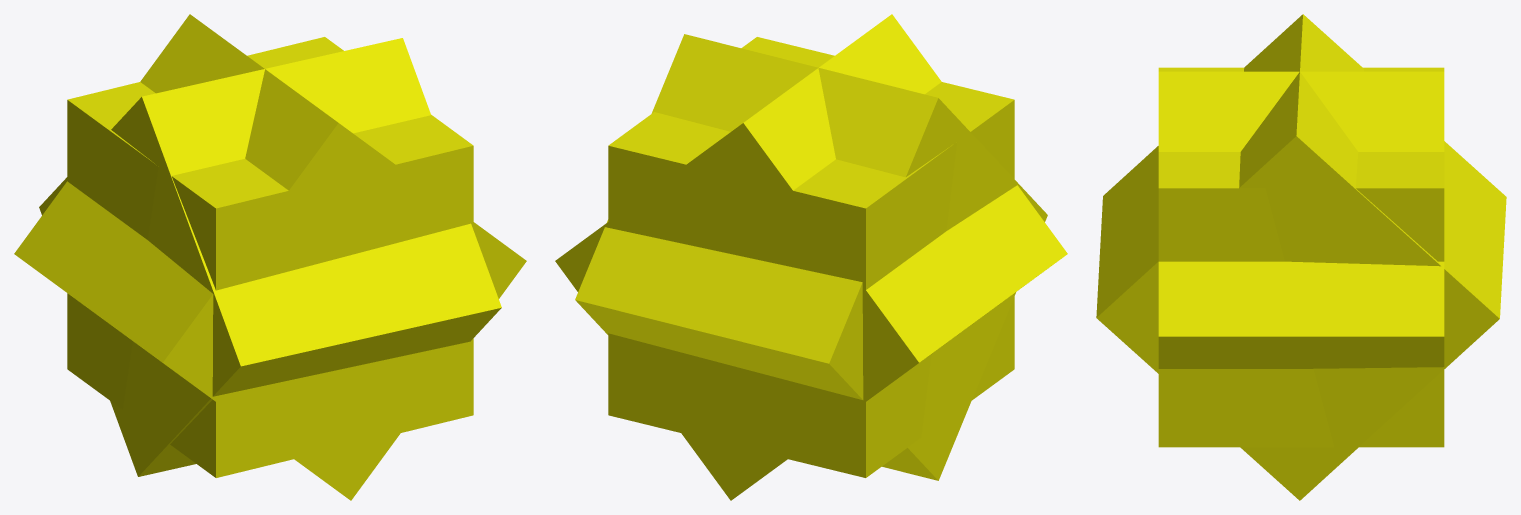
File: star.fbx
The picture shows the model from 3 angles, left to right: view 1: azimuth 30°, elevation 25°; view 2: azimuth 150°, elevation 25°; view 3: azimuth 270°, elevation 25°; orthographic projection. The views are drawn at different scales.
Parts seen in each view (by area): view 1: star; view 2: star; view 3: star.
Boxes of the visible parts, x1,y1,x2,y2 form: star: (14,14,526,500); star: (555,14,1067,500); star: (1096,14,1506,500).
Bounding box in the file's own units: 1.41 × 1.42 × 1.44.
